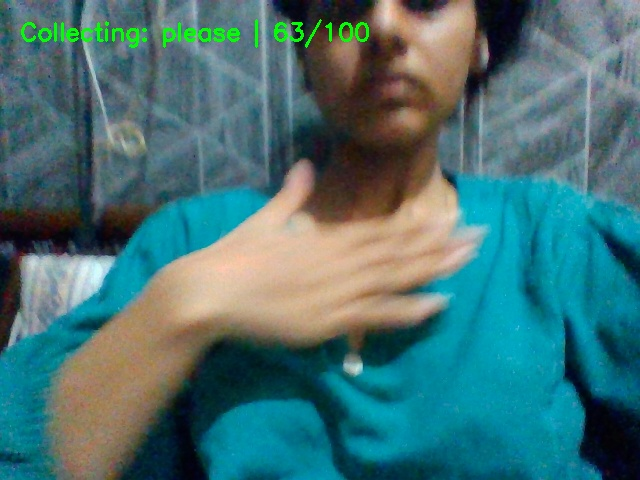please: (153, 172, 516, 375)
